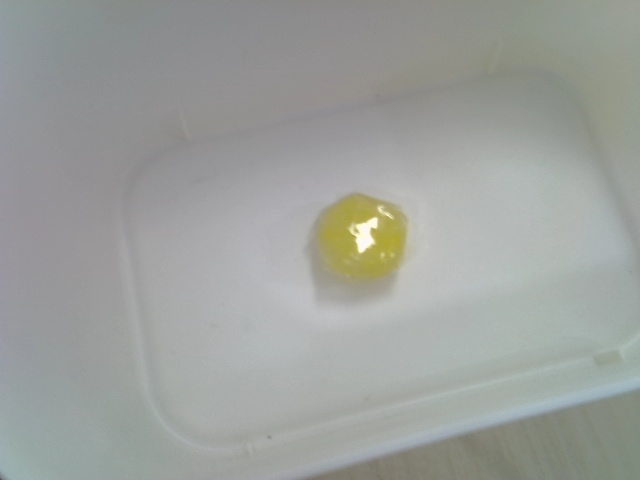씨앗: (314, 191, 408, 280)
